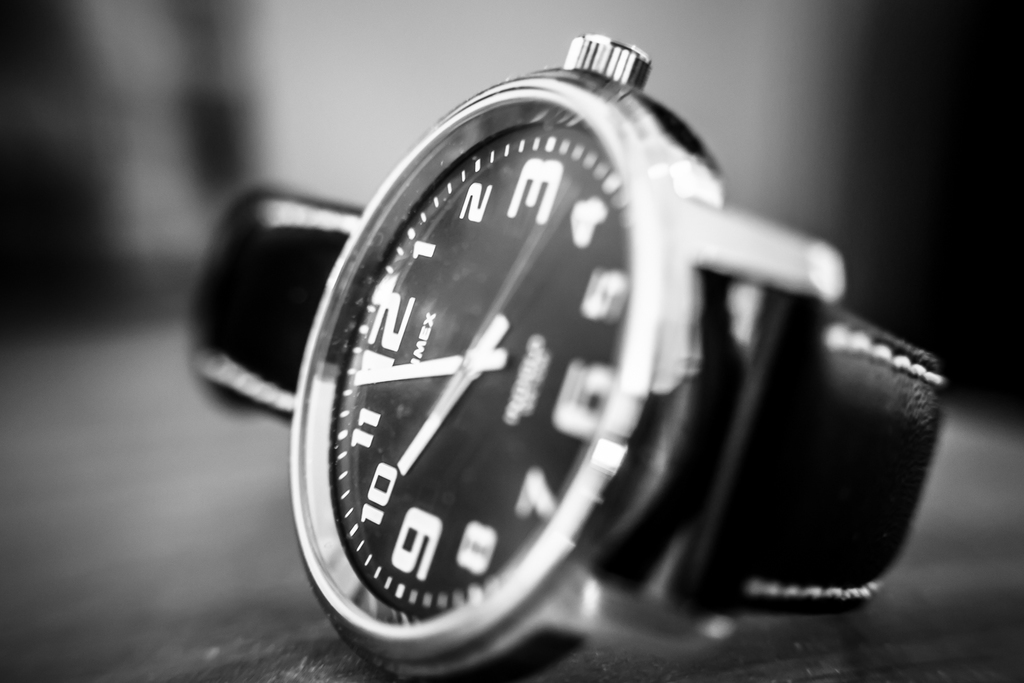watch: (193, 31, 937, 682)
